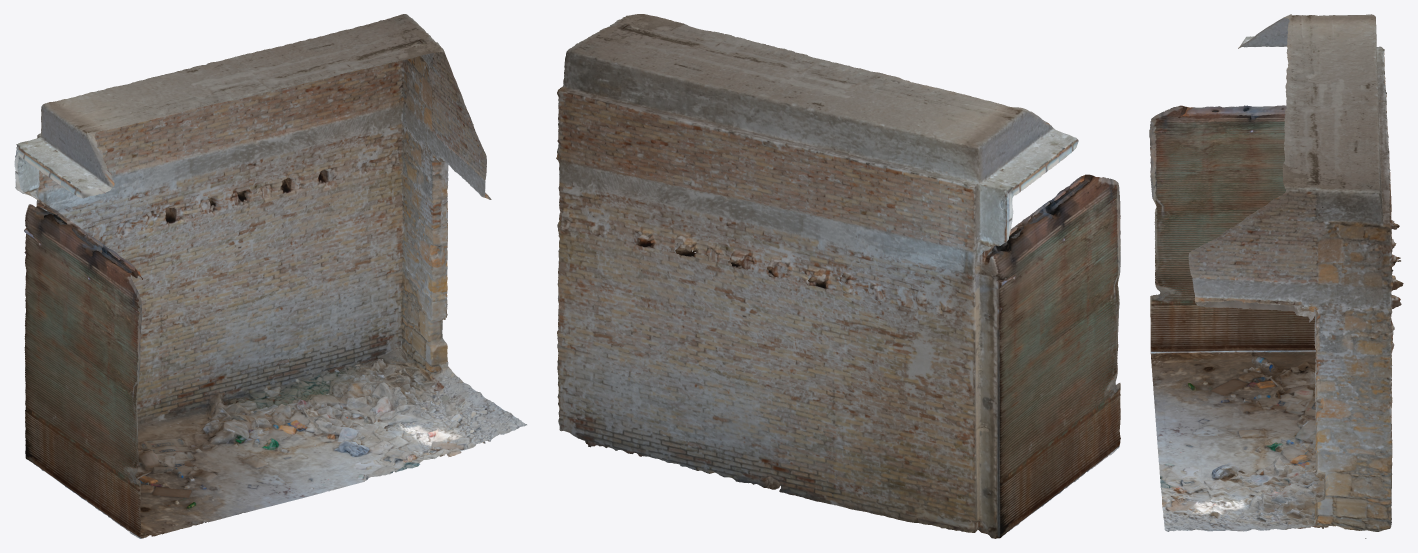
File: empty_building_interior_3rd_june_2020.glb
The picture shows the model from 3 angles, left to right: view 1: azimuth 30°, elevation 25°; view 2: azimuth 150°, elevation 25°; view 3: azimuth 270°, elevation 25°; orthographic projection. The views are drawn at different scales.
Visible parts, largest first — view 1: Model; view 2: Model; view 3: Model.
Boxes of the visible parts, box(x1,y1,x2,y2) form: Model: box(14, 14, 526, 538); Model: box(556, 14, 1120, 538); Model: box(1149, 14, 1403, 538).
Size of the model in its own units: 124 by 103 by 67.36.
Materials: 1 (1 with a texture image).
